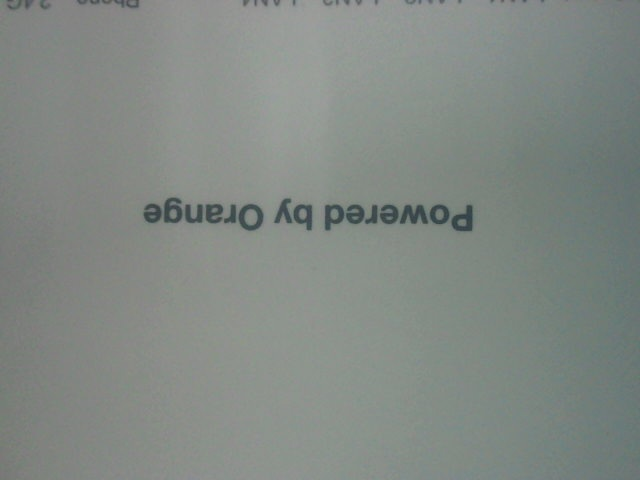AS_PowerByOrange: (135, 185, 499, 237)
